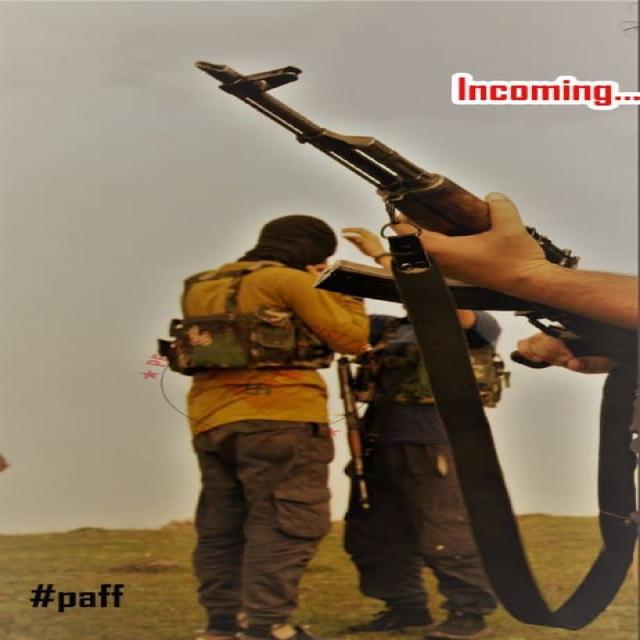Militant: (89, 190, 397, 640), (338, 235, 580, 640)
